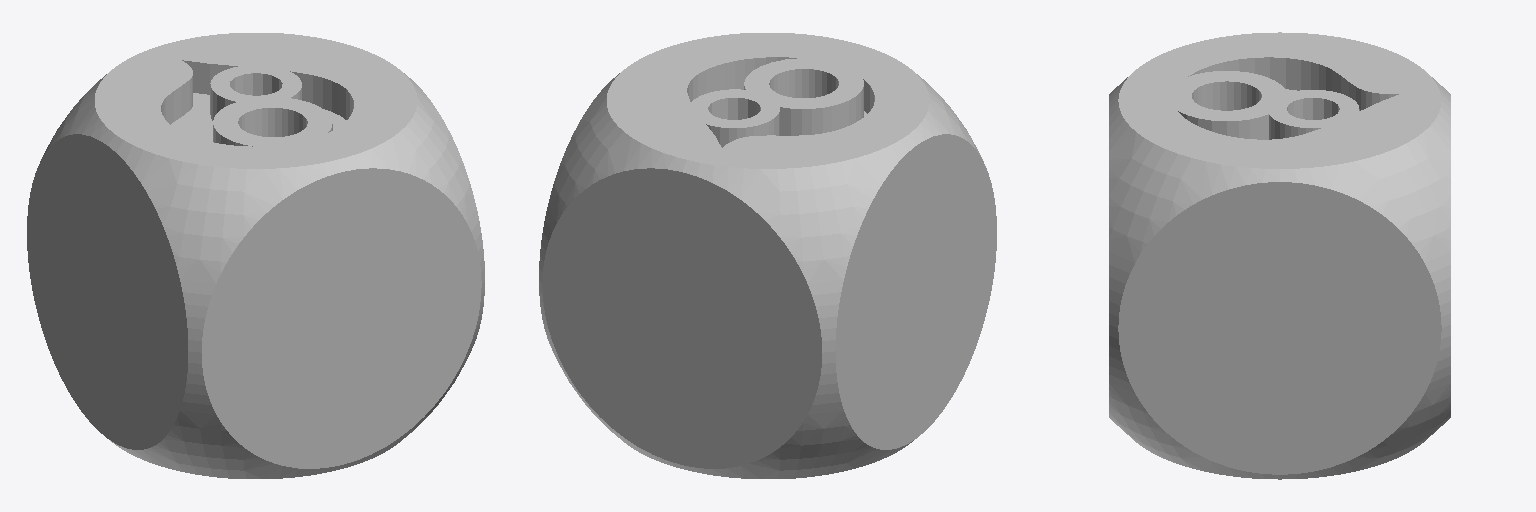
File: Drupal 8 Dice.obj
The picture shows the model from 3 angles: view 1: azimuth 30°, elevation 25°; view 2: azimuth 150°, elevation 25°; view 3: azimuth 270°, elevation 25°; orthographic projection.
Parts seen in each view (by area): view 1: Drupal_8_Dice; view 2: Drupal_8_Dice; view 3: Drupal_8_Dice.
Part boxes in pixels (bbox=[...]): Drupal_8_Dice: bbox=[27, 33, 484, 478]; Drupal_8_Dice: bbox=[539, 33, 996, 478]; Drupal_8_Dice: bbox=[1109, 32, 1450, 479].
Bounding box in the file's own units: 20 × 20 × 20.